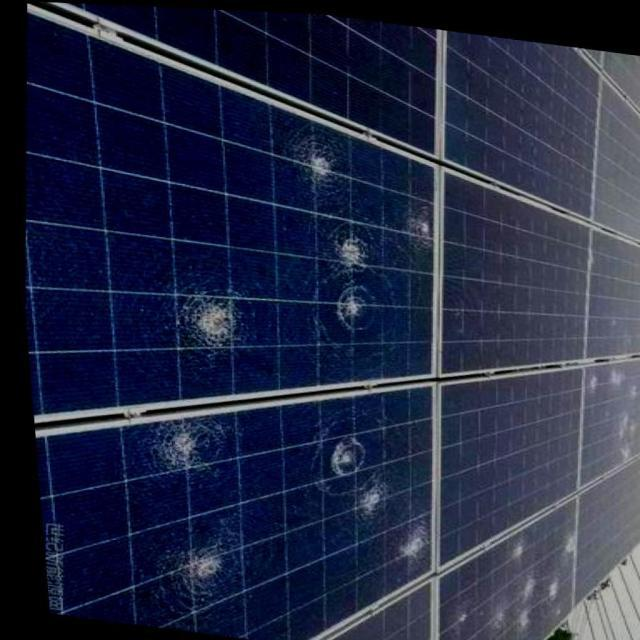cracked: (26, 17, 434, 376), (31, 390, 432, 620), (447, 502, 572, 638), (577, 295, 640, 483)
